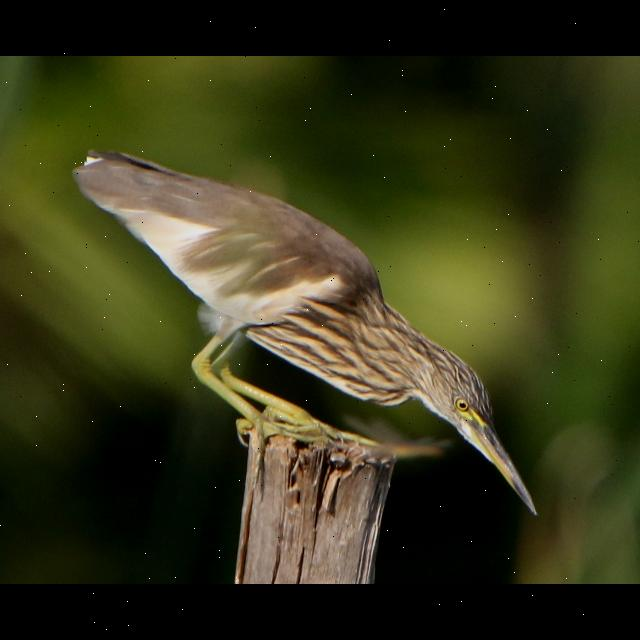heron: (58, 137, 550, 519)
